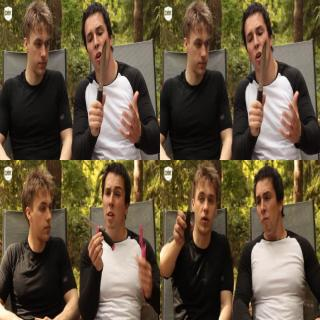knife: (248, 37, 268, 131), (88, 37, 107, 131), (80, 211, 116, 255), (181, 178, 195, 230)
